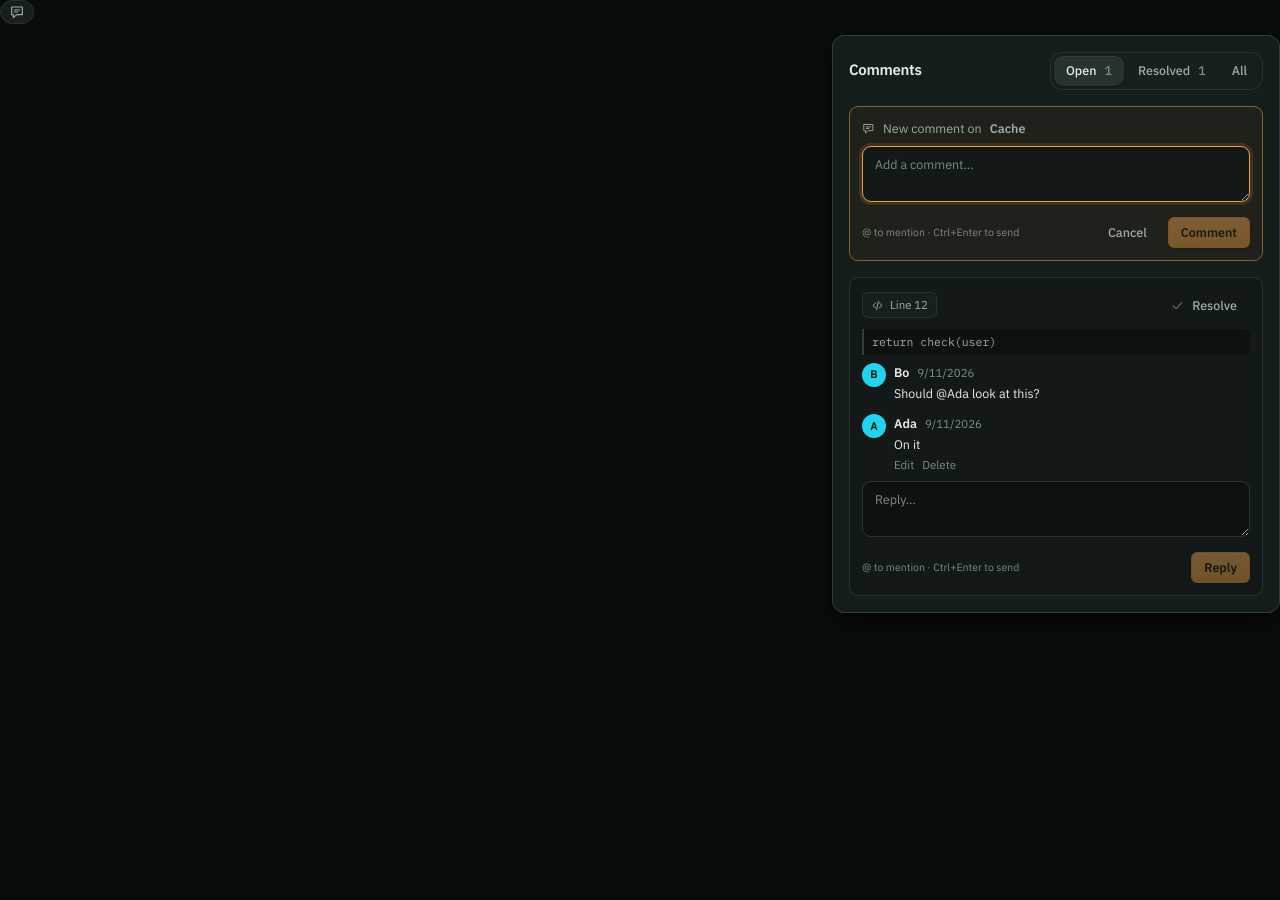
Test: writing a new comment › moves through the people with the arrow keys
The image size is (1280, 900).
Type "@" into the dropdown named "New comment" at point(1056, 174), box top-left (862, 146), bottom-right (1250, 202)
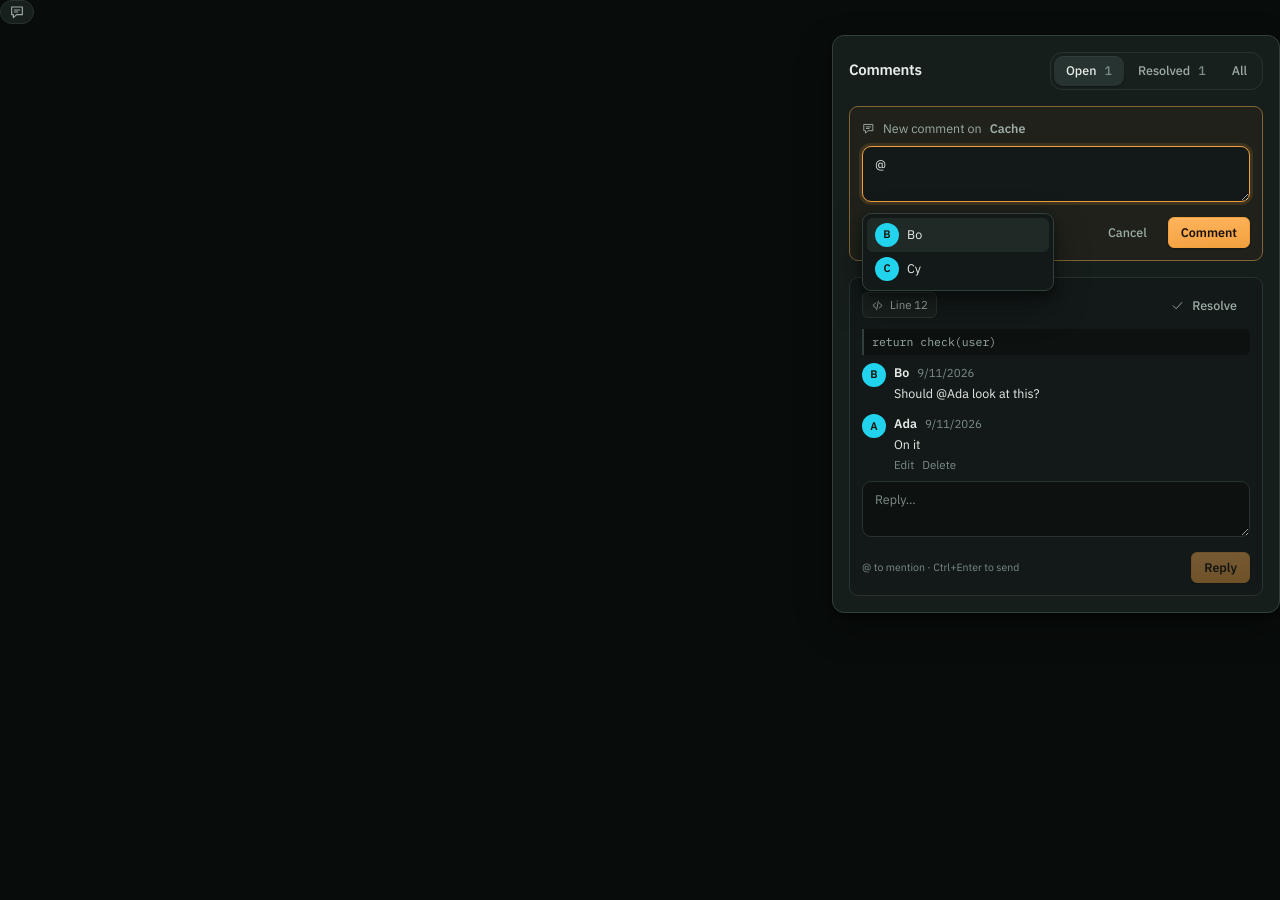
Press Arrowdown
Press Tab
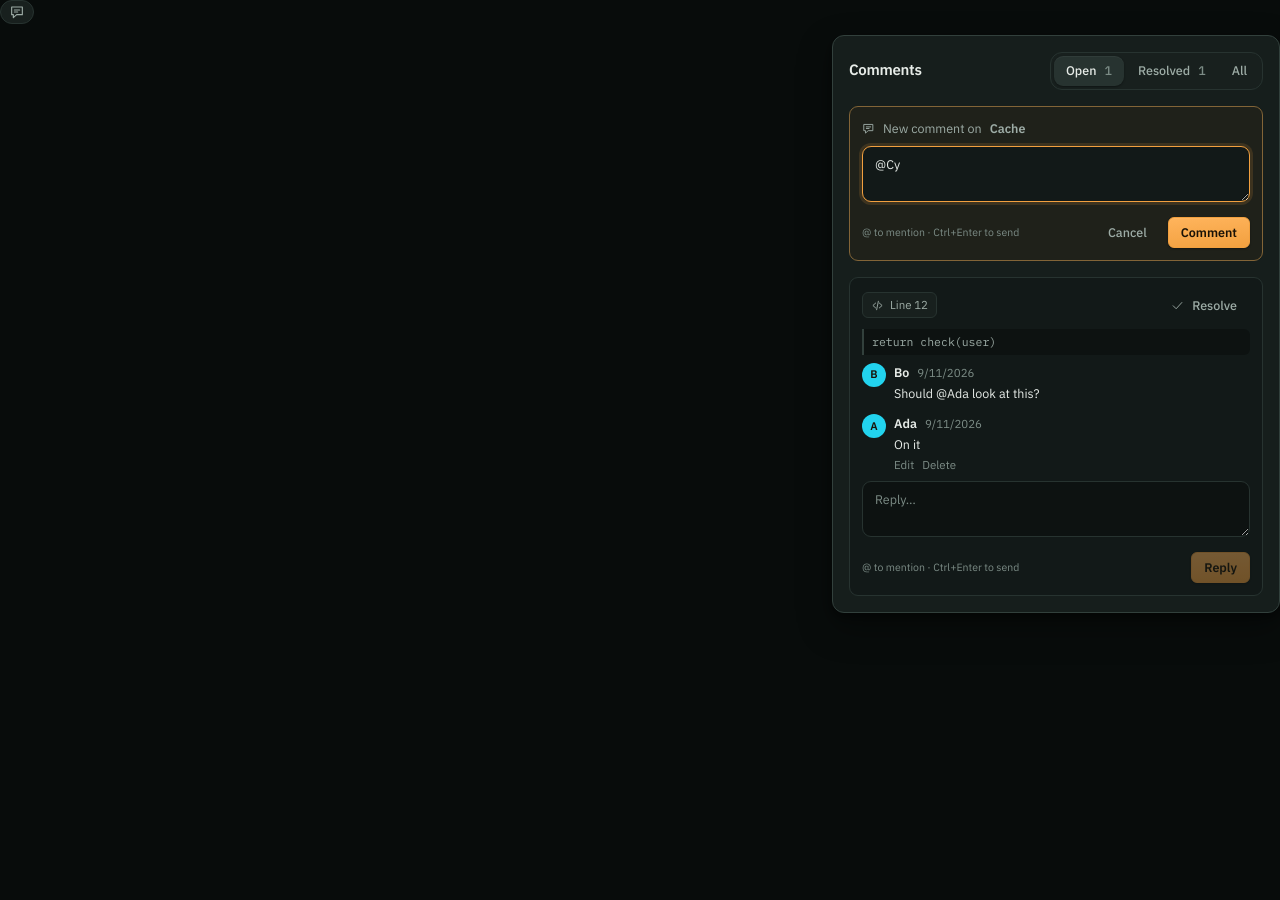
Expected: the dropdown named "New comment" holds "@Cy ", top-left (862, 146), bottom-right (1250, 202)
